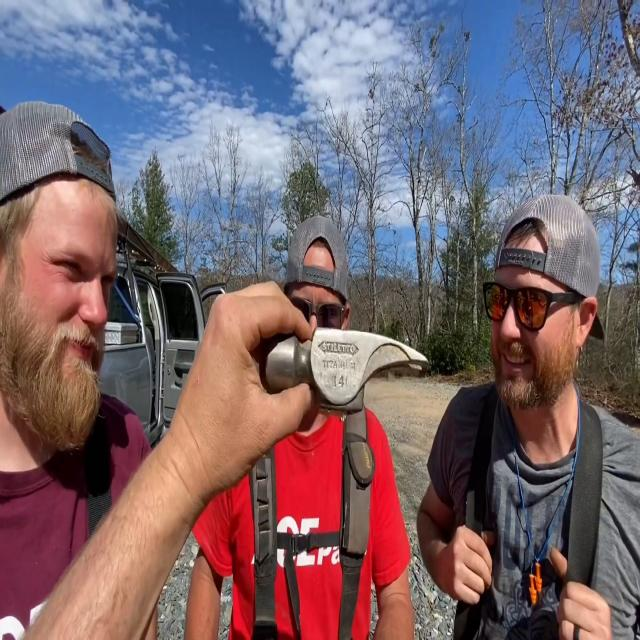hammer: (266, 327, 429, 412)
